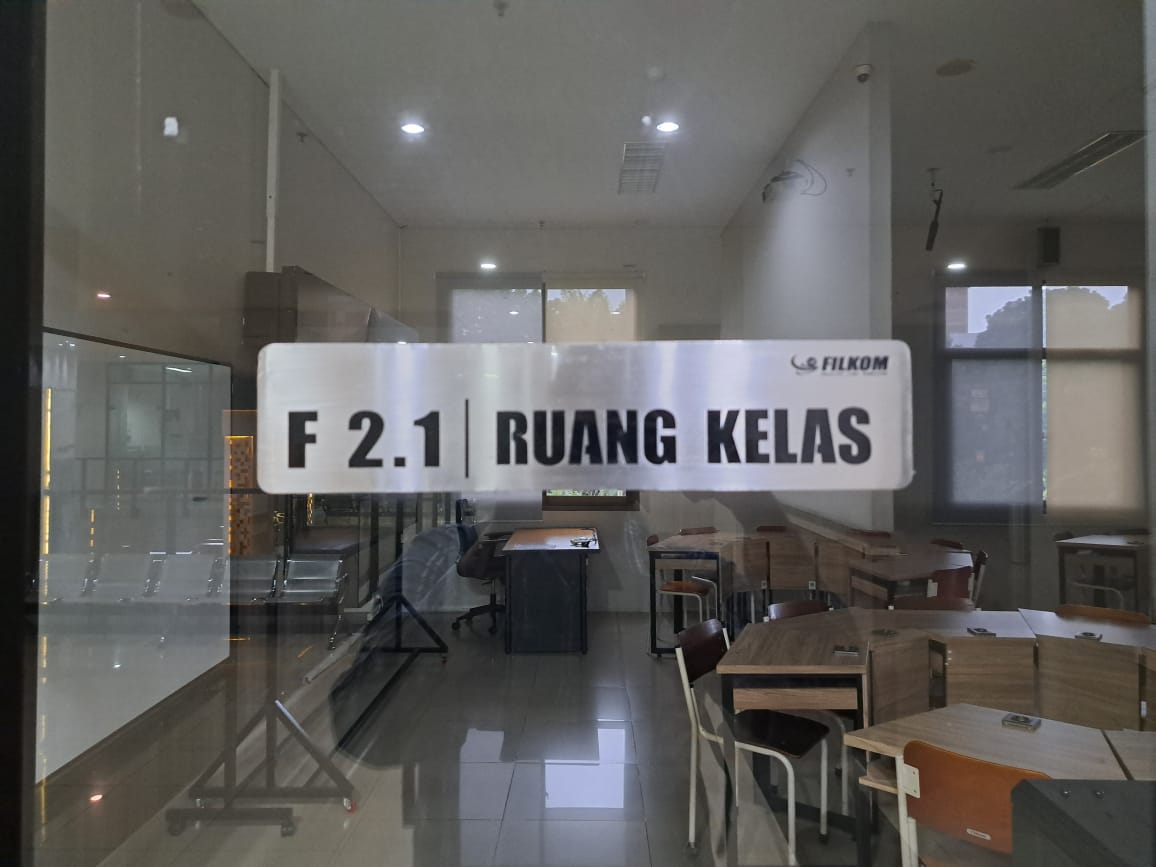ruangan: (250, 335, 927, 501)
